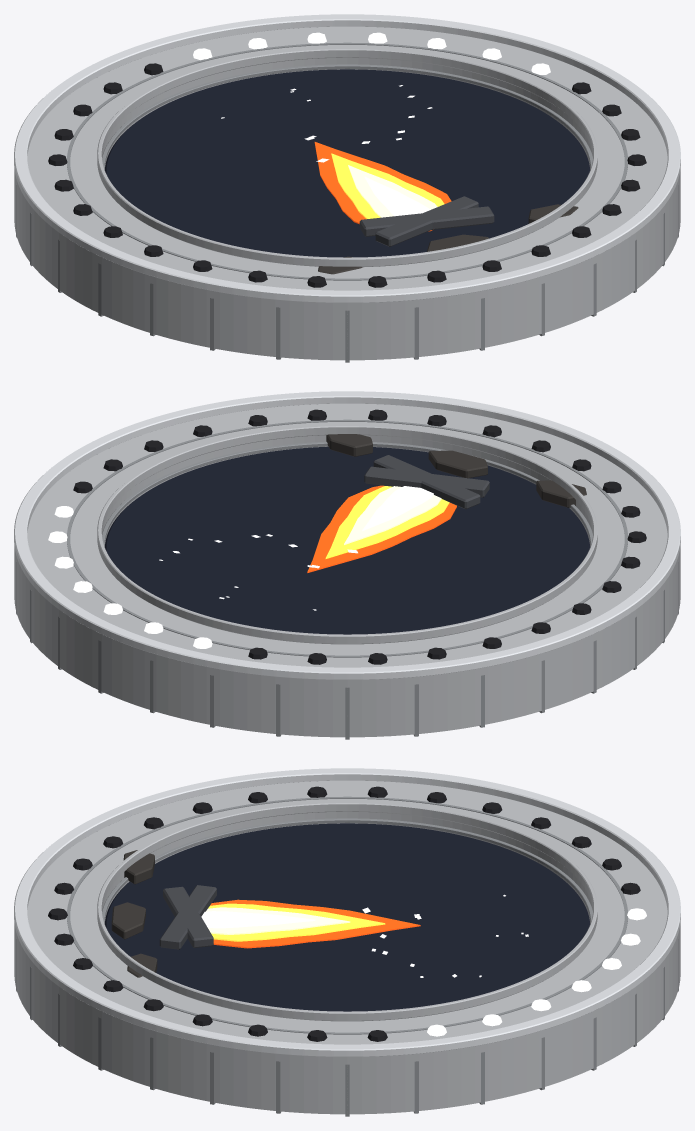
The model's file is streak_7.glb.
3 views of the same model, one above another, from view 1: azimuth 30°, elevation 25°; view 2: azimuth 150°, elevation 25°; view 3: azimuth 270°, elevation 25° (orthographic).
Visible parts, largest first — view 1: SR_Ring, SR_Field, SR_OuterLip, SR_InnerLip, SR_PipsDark, SR_RingLine, SR_Logs, SR_FieldRim, SR_Ribs, SR_Flame0, SR_Flame1, SR_PipsLit (+3 smaller); view 2: SR_Ring, SR_Field, SR_OuterLip, SR_InnerLip, SR_PipsDark, SR_RingLine, SR_Logs, SR_Ribs, SR_Flame0, SR_FieldRim, SR_Flame1, SR_Flame2 (+5 smaller); view 3: SR_Ring, SR_Field, SR_OuterLip, SR_InnerLip, SR_PipsDark, SR_RingLine, SR_FieldRim, SR_Logs, SR_Ribs, SR_Flame0, SR_Flame1, SR_Flame2 (+4 smaller).
Boxes of the visible parts, <box> form: SR_Ring: <box>14,26,680,360</box>; SR_Field: <box>104,69,590,257</box>; SR_OuterLip: <box>14,14,680,302</box>; SR_InnerLip: <box>97,48,597,267</box>; SR_PipsDark: <box>48,63,646,287</box>; SR_RingLine: <box>67,42,627,280</box>; SR_Logs: <box>359,196,494,246</box>; SR_FieldRim: <box>102,64,592,169</box>; SR_Ribs: <box>16,184,678,362</box>; SR_Flame0: <box>314,142,451,231</box>; SR_Flame1: <box>331,153,444,218</box>; SR_PipsLit: <box>193,32,550,74</box>; SR_Ring: <box>14,403,680,737</box>; SR_Field: <box>104,446,590,634</box>; SR_OuterLip: <box>14,391,680,679</box>; SR_InnerLip: <box>97,425,597,644</box>; SR_PipsDark: <box>73,409,646,664</box>; SR_RingLine: <box>67,419,627,657</box>; SR_Logs: <box>364,455,489,509</box>; SR_Ribs: <box>16,561,678,739</box>; SR_Flame0: <box>307,485,456,572</box>; SR_FieldRim: <box>102,441,592,546</box>; SR_Flame1: <box>325,486,449,558</box>; SR_Flame2: <box>344,486,441,544</box>; SR_Ring: <box>14,780,680,1114</box>; SR_Field: <box>104,823,590,1011</box>; SR_OuterLip: <box>14,768,680,1056</box>; SR_InnerLip: <box>97,802,597,1021</box>; SR_PipsDark: <box>48,786,640,1041</box>; SR_RingLine: <box>67,796,627,1034</box>; SR_FieldRim: <box>102,818,592,923</box>; SR_Logs: <box>159,885,216,949</box>; SR_Ribs: <box>16,938,678,1116</box>; SR_Flame0: <box>210,899,420,948</box>; SR_Flame1: <box>208,903,385,941</box>; SR_Flame2: <box>206,907,350,934</box>.
Size of the model in its own units: 0.0394 by 0.00447 by 0.0394.
